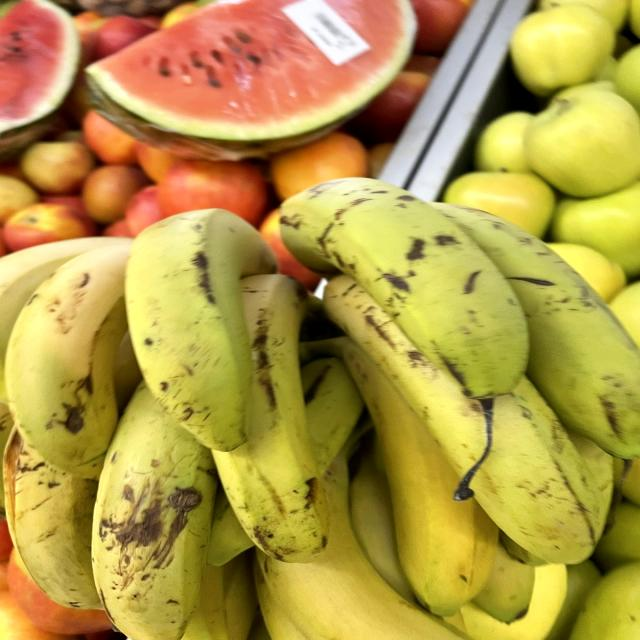banana: (276, 187, 640, 566)
